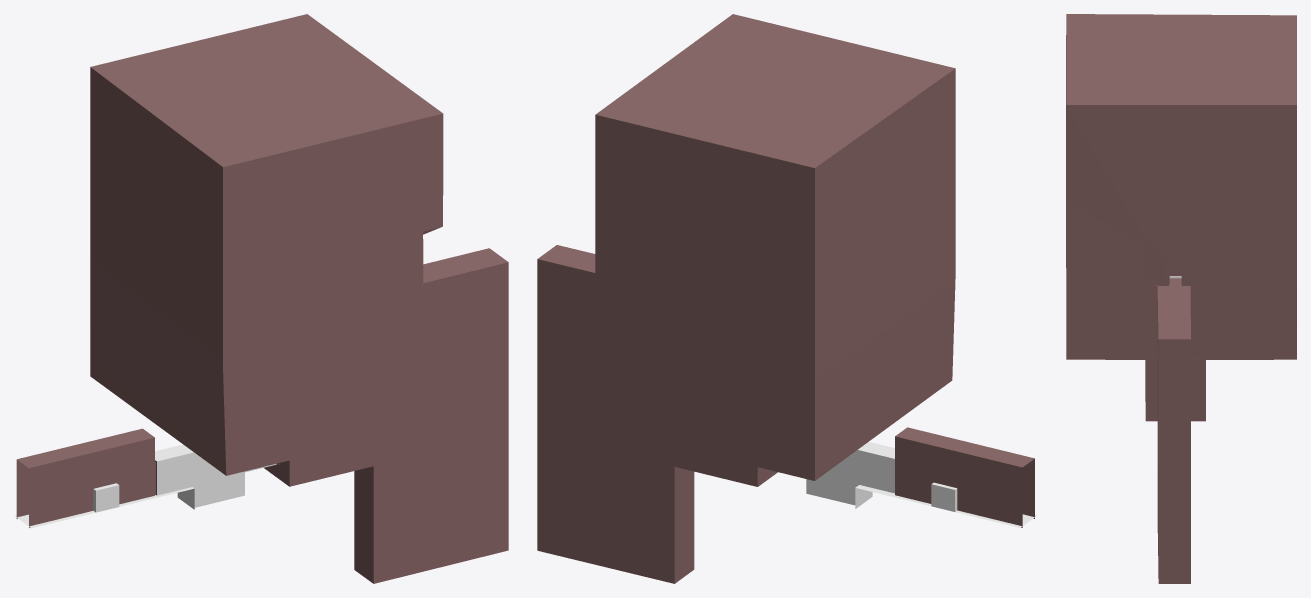
File: tutorial.fbx
3 views of the same model, side by side, from view 1: azimuth 30°, elevation 25°; view 2: azimuth 150°, elevation 25°; view 3: azimuth 270°, elevation 25° (orthographic). The views are drawn at different scales.
Visible parts, largest first — view 1: Tutoial_3_Unclimabable, Tutoial_1_unclib, Tutoial_2_climy, Tutoial_1_Floor; view 2: Tutoial_3_Unclimabable, Tutoial_1_unclib, Tutoial_2_climy, Tutoial_1_Floor; view 3: Tutoial_3_Unclimabable.
Part boxes in pixels (x1=…): Tutoial_3_Unclimabable: x1=90, y1=14, x2=508, y2=583; Tutoial_1_unclib: x1=16, y1=428, x2=156, y2=527; Tutoial_2_climy: x1=155, y1=444, x2=276, y2=507; Tutoial_1_Floor: x1=14, y1=483, x2=194, y2=528; Tutoial_3_Unclimabable: x1=537, y1=14, x2=955, y2=583; Tutoial_1_unclib: x1=895, y1=427, x2=1034, y2=527; Tutoial_2_climy: x1=806, y1=442, x2=894, y2=505; Tutoial_1_Floor: x1=855, y1=482, x2=1036, y2=527; Tutoial_3_Unclimabable: x1=1066, y1=14, x2=1296, y2=583.
Size of the model in its own units: 8843 by 8976 by 4373.
